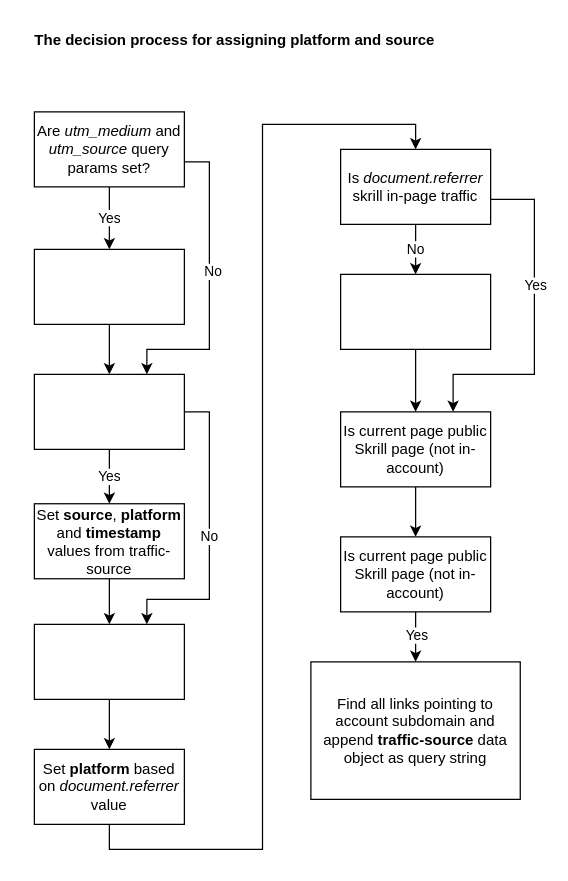
This 568x881 diagram has some shape labels left out. Here are the shapes that lost their labels. From the top down, the centre of each, then its label:
At [108,286]: "Set platform ( utm_medium) and source (utm_source)".
At [415,311]: "Save traffic-source object to localStorage".
At [108,411]: "Is traffic-source query param set and valid".
At [108,661]: "Set source based on document.referrer value".
